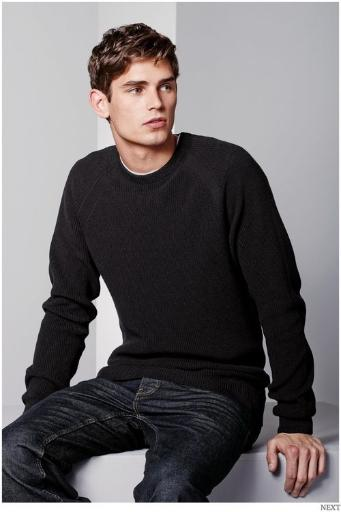left_eye: (159, 82, 174, 91)
left_lip_corner: (164, 117, 170, 124)
right_eye: (125, 85, 147, 95)
right_lip_corner: (140, 120, 148, 129)
